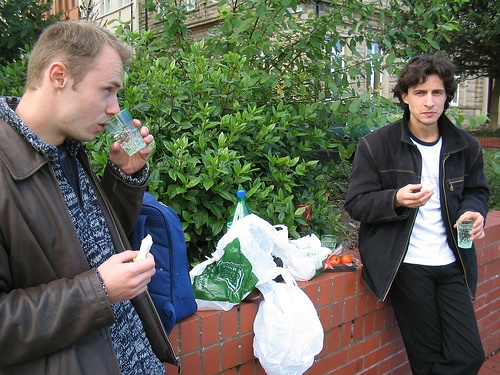head: (26, 18, 127, 144), (399, 57, 456, 122)
person: (1, 17, 188, 375), (340, 47, 491, 375)
